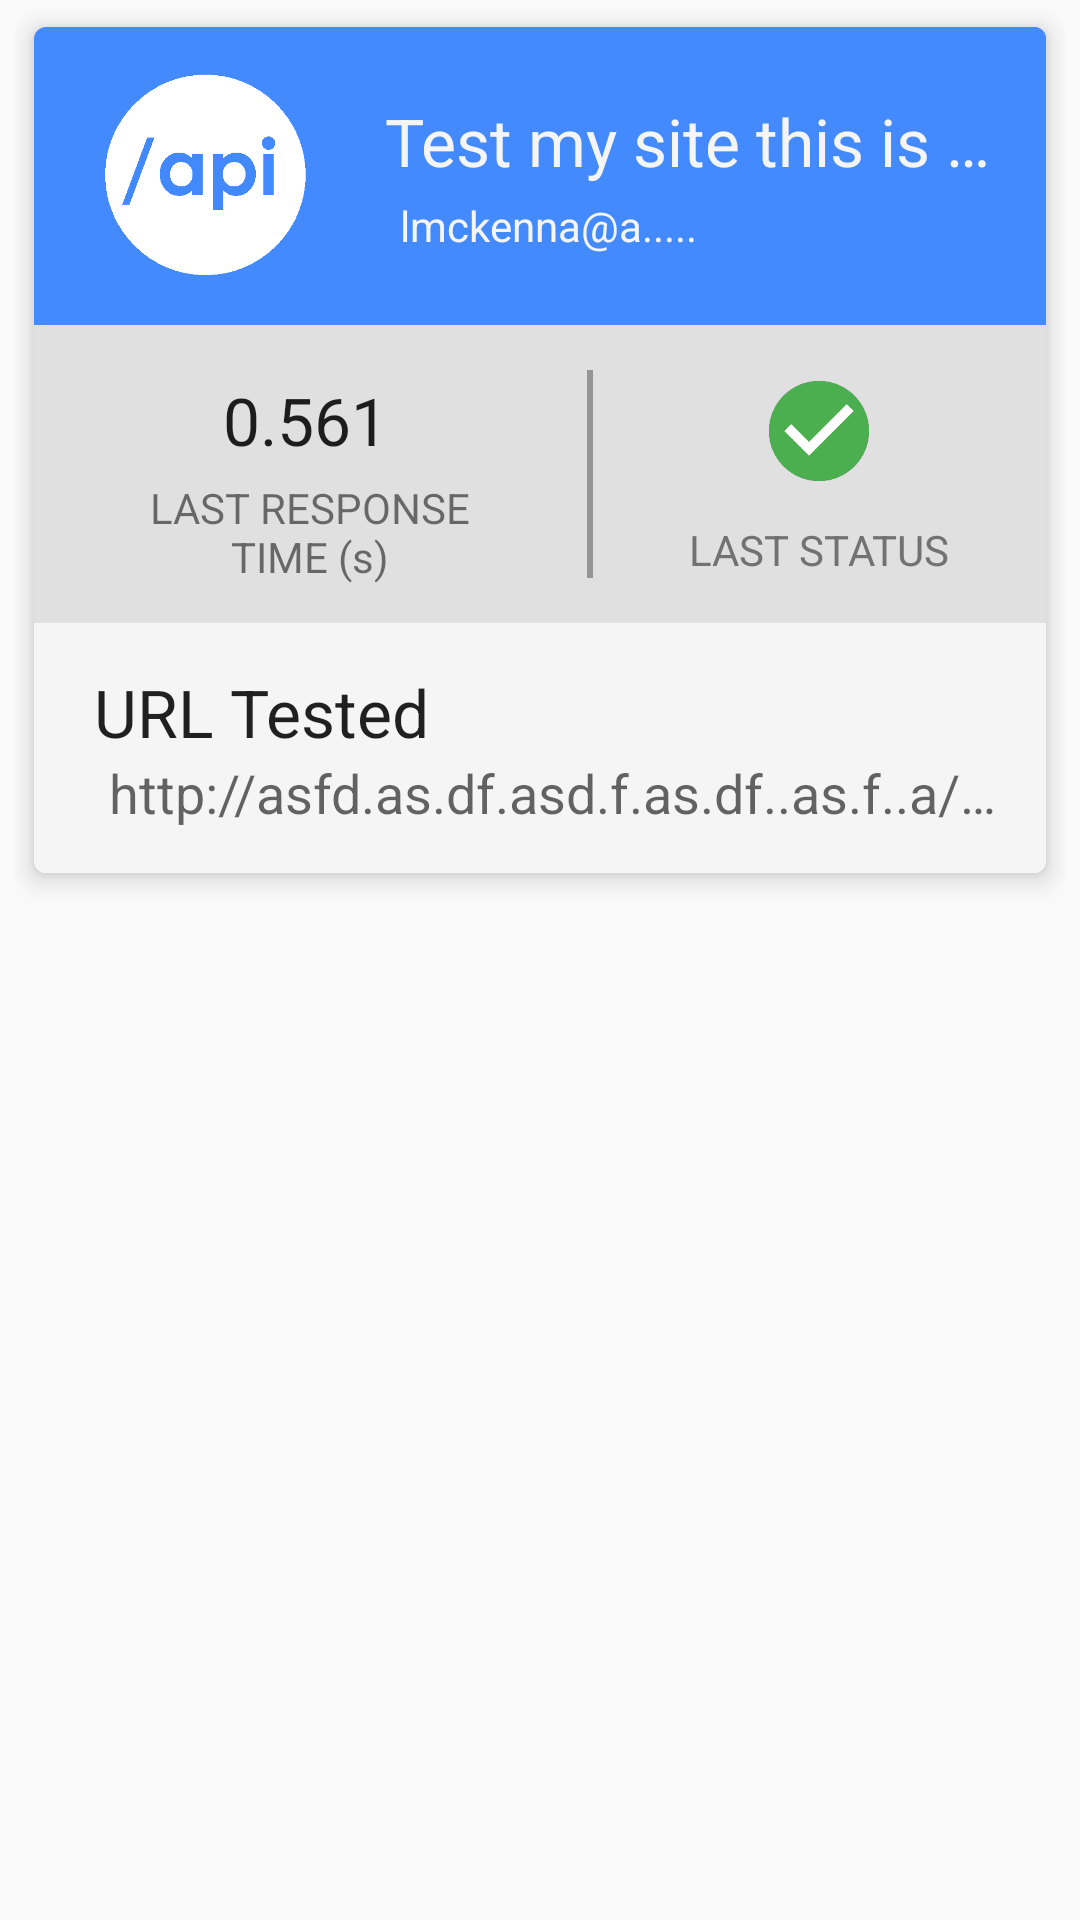

Icons on this 1080×1920 Android screen, each with the point to tap as point (x, y):
greentick: point (819, 431)
